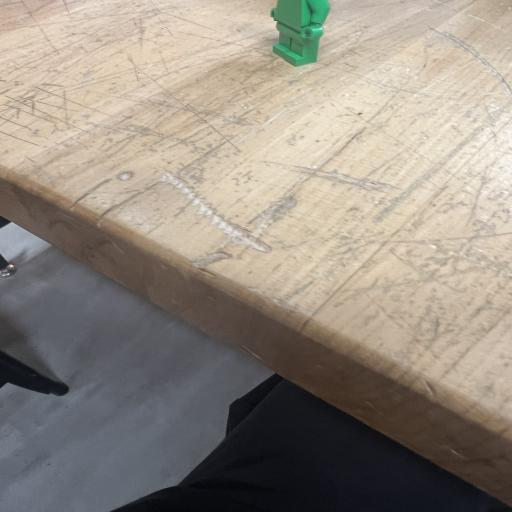green-lego-minifigure-detector: (271, 0, 330, 66)
